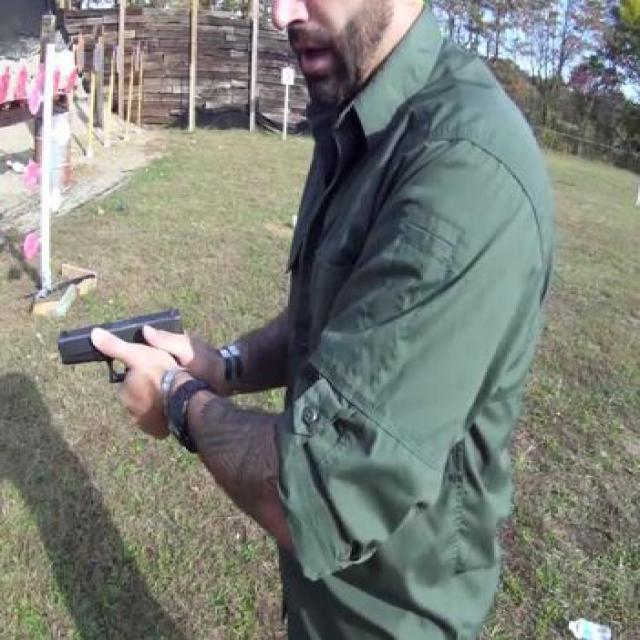gun: (48, 305, 196, 413)
